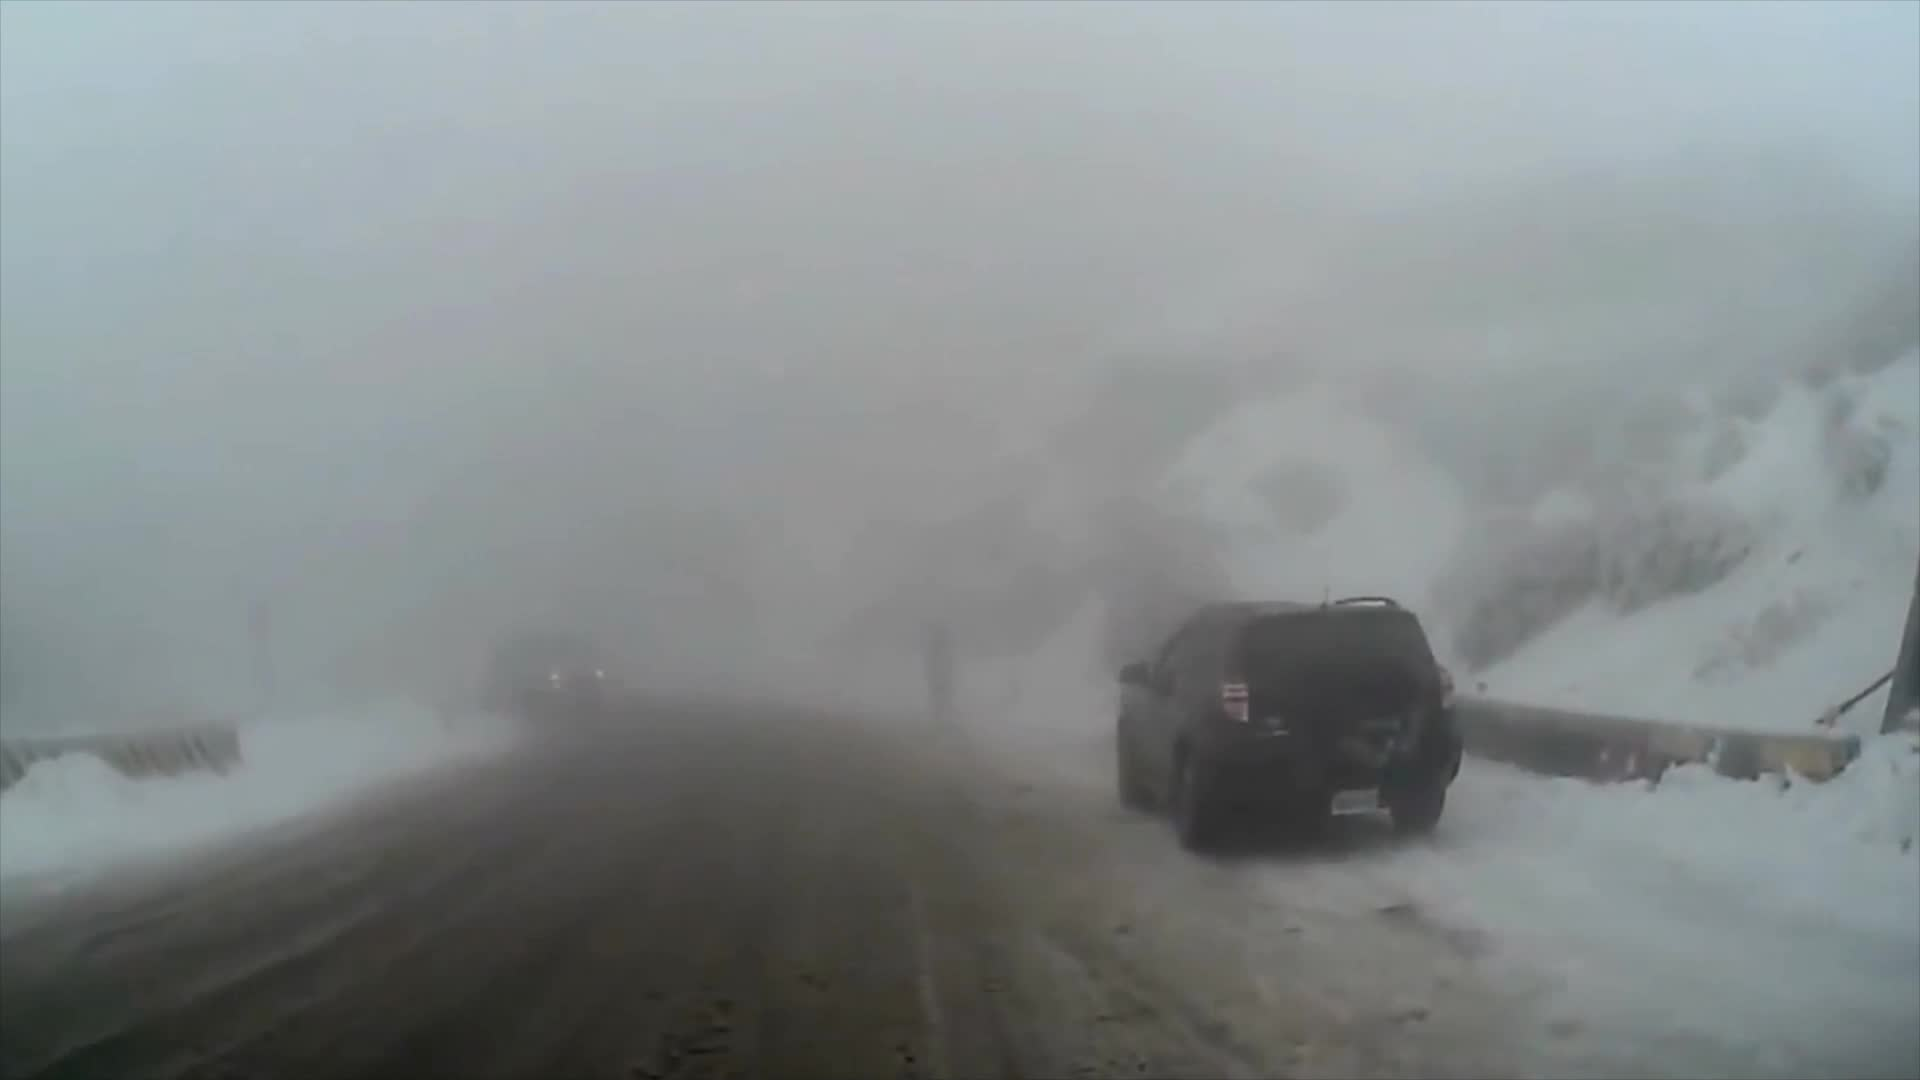vehicle: (1112, 589, 1465, 856)
